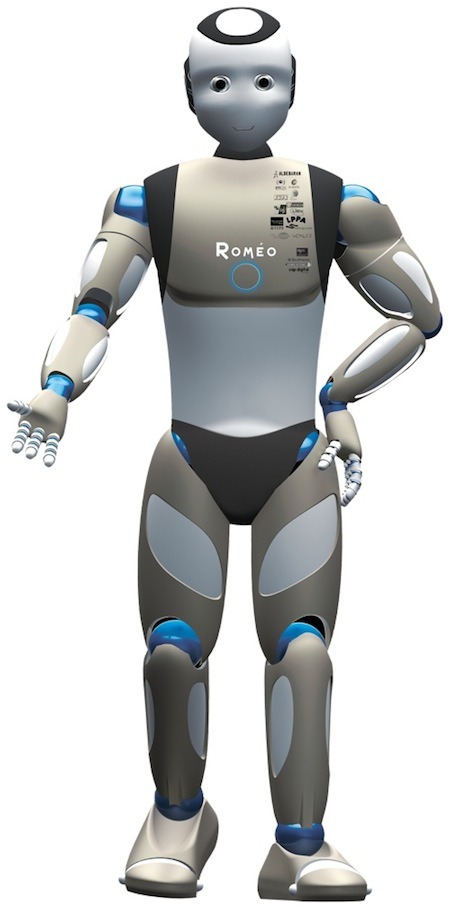person-like: (1, 3, 446, 908)
